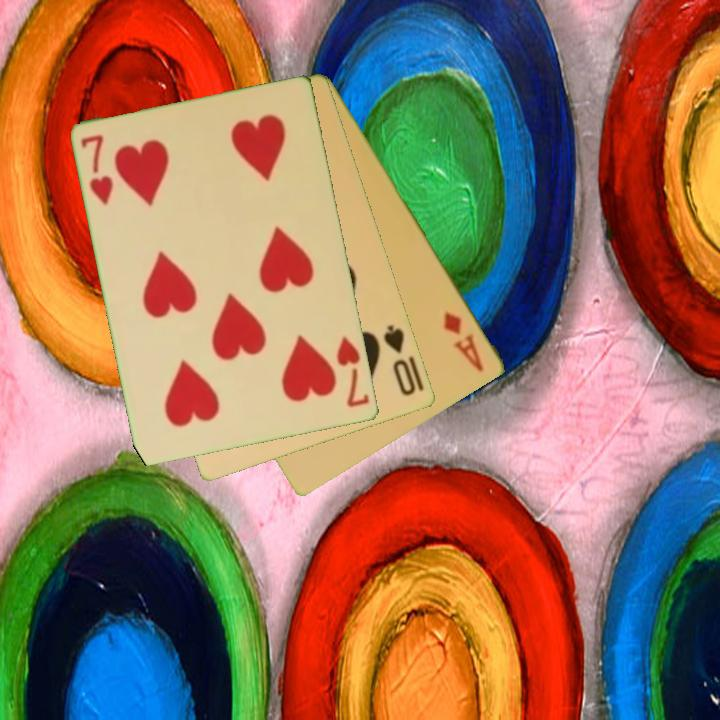10s: (380, 321, 419, 399)
7h: (333, 332, 373, 411), (77, 131, 117, 208)
Ad: (440, 307, 487, 375)
